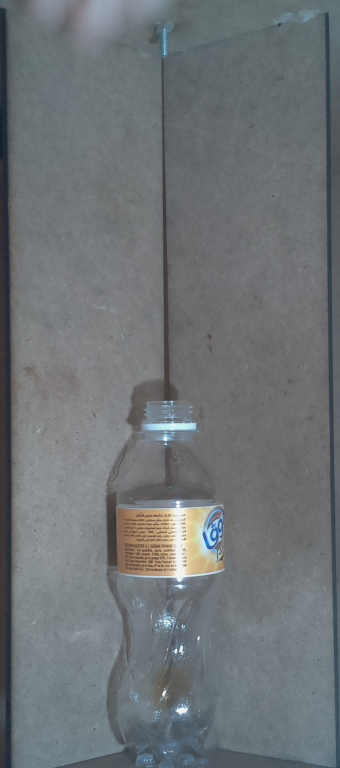Bouteille_0.3L: (102, 390, 235, 768)
